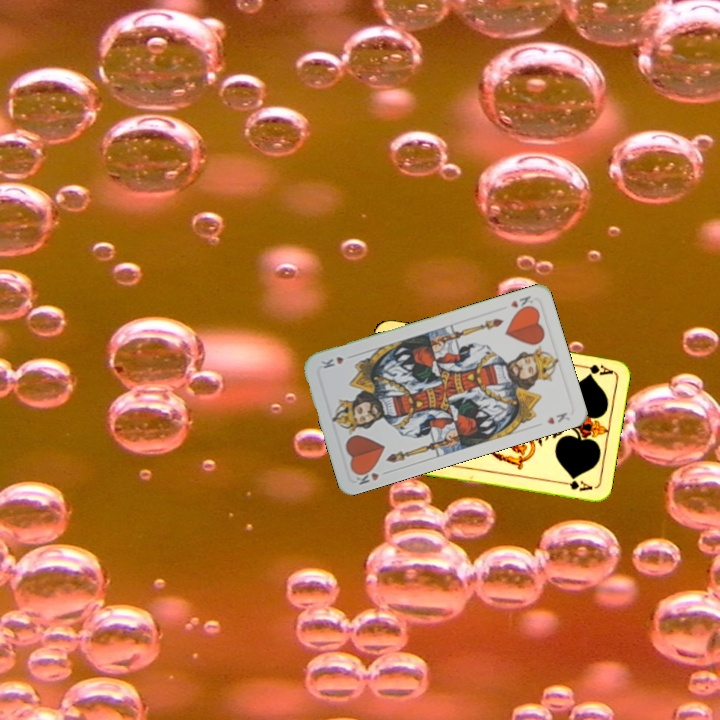GA: (575, 360, 615, 378)
HK: (351, 463, 392, 487), (506, 291, 536, 314)
